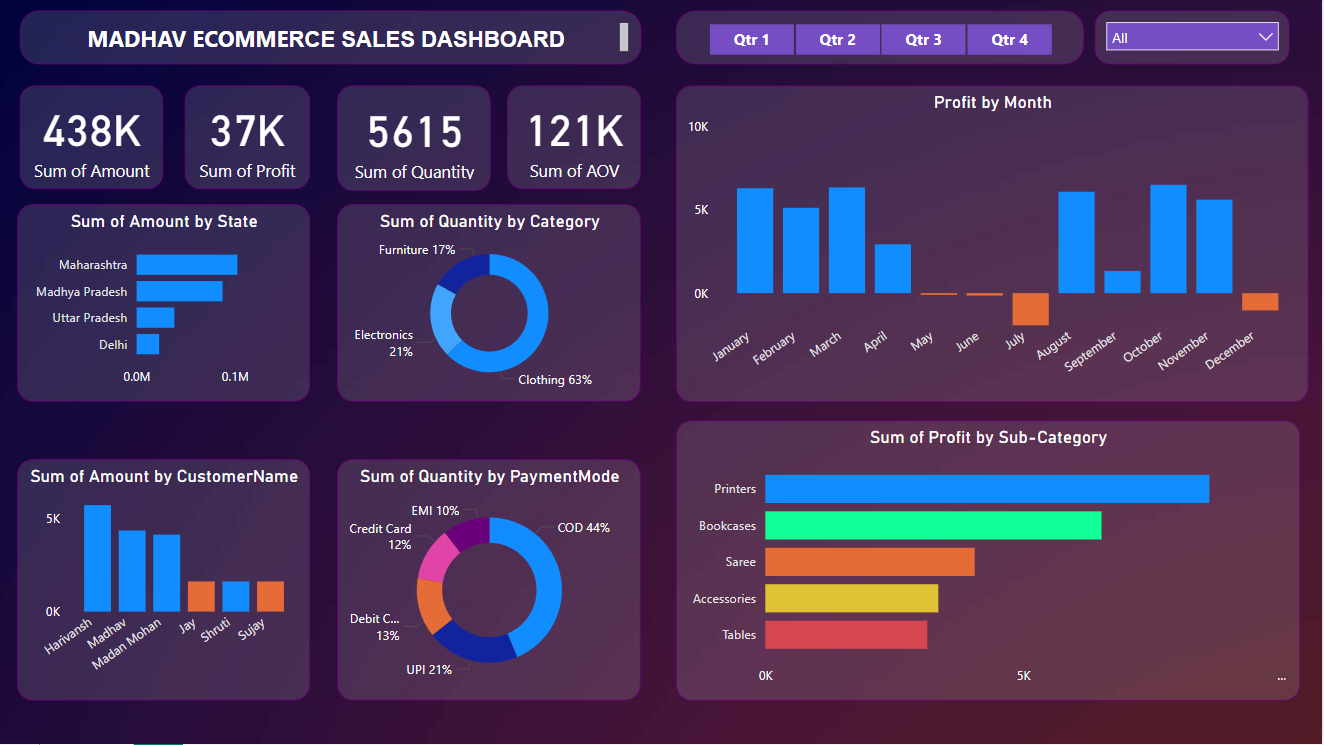

This screenshot's page, from the dashboard's own definition file:
{"tool":"powerbi","page":{"name":"Page 1","canvas":[1280,720],"ordinal":0},"visuals":[{"type":"textbox","box":[22.9,12.1,599.6,51.9],"z":0},{"type":"columnChart","title":"Profit by Month","fields":{"Y":["Details.Profit"],"Category":["Orders.Order Date.Variation.Date Hierarchy.Month"]},"box":[656.3,84.5,610.5,305.2],"z":1000},{"type":"barChart","fields":{"Category":["Details.Sub-Category"],"Y":["Details.Profit"]},"box":[656.3,407.8,602,270.2],"z":2000},{"type":"donutChart","fields":{"Y":["Details.Quantity"],"Category":["Details.Category"]},"box":[329.4,199.1,293.2,190.6],"z":3000},{"type":"donutChart","fields":{"Y":["Details.Quantity"],"Category":["Details.PaymentMode"]},"box":[329.4,445.2,293.2,232.8],"z":4000},{"type":"card","fields":{"Values":["Details.Amount"]},"box":[22.9,84.5,138.7,100.1],"z":5000},{"type":"card","fields":{"Values":["Details.Profit"]},"box":[182.2,84.5,120.6,100.1],"z":6000},{"type":"card","fields":{"Values":["Details.Quantity"]},"box":[329.4,84.5,148.4,101.3],"z":7000},{"type":"card","fields":{"Values":["Details.AOV"]},"box":[493.4,84.5,129.1,100.1],"z":8000},{"type":"barChart","fields":{"Category":["Orders.State"],"Y":["Details.Amount"]},"box":[20.5,199.1,282.3,190.6],"z":9000},{"type":"columnChart","fields":{"Category":["Orders.CustomerName"],"Y":["Details.Amount"]},"box":[20.5,445.2,282.3,232.8],"z":10000},{"type":"slicer","fields":{"Values":["Orders.Order Date.Variation.Date Hierarchy.Quarter"]},"box":[656.3,12.1,393.3,51.9],"z":11000},{"type":"slicer","fields":{"Values":["Orders.State"]},"box":[1060.5,12.1,188.2,51.9],"z":12000}]}

Visuals, with their boxes in screenshot pixels (x1, y1, x2, y2), scaled from the page's 1280x720 canvas onto the 1324x745 screenshot:
textbox: bbox=(24, 13, 644, 66)
"Profit by Month" columnChart: bbox=(679, 87, 1310, 403)
barChart - Details.Sub-Category x Details.Profit: bbox=(679, 422, 1302, 702)
donutChart - Details.Quantity x Details.Category: bbox=(341, 206, 644, 403)
donutChart - Details.Quantity x Details.PaymentMode: bbox=(341, 461, 644, 702)
card - Details.Amount: bbox=(24, 87, 167, 191)
card - Details.Profit: bbox=(188, 87, 313, 191)
card - Details.Quantity: bbox=(341, 87, 494, 192)
card - Details.AOV: bbox=(510, 87, 644, 191)
barChart - Orders.State x Details.Amount: bbox=(21, 206, 313, 403)
columnChart - Orders.CustomerName x Details.Amount: bbox=(21, 461, 313, 702)
slicer - Orders.Order Date.Variation.Date Hierarchy.Quarter: bbox=(679, 13, 1086, 66)
slicer - Orders.State: bbox=(1097, 13, 1292, 66)
